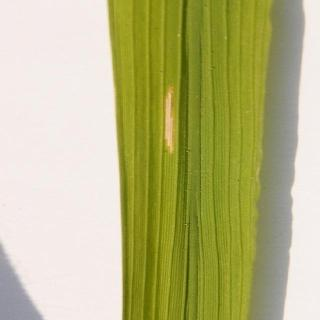Hawar-Daun: (148, 57, 196, 194)
